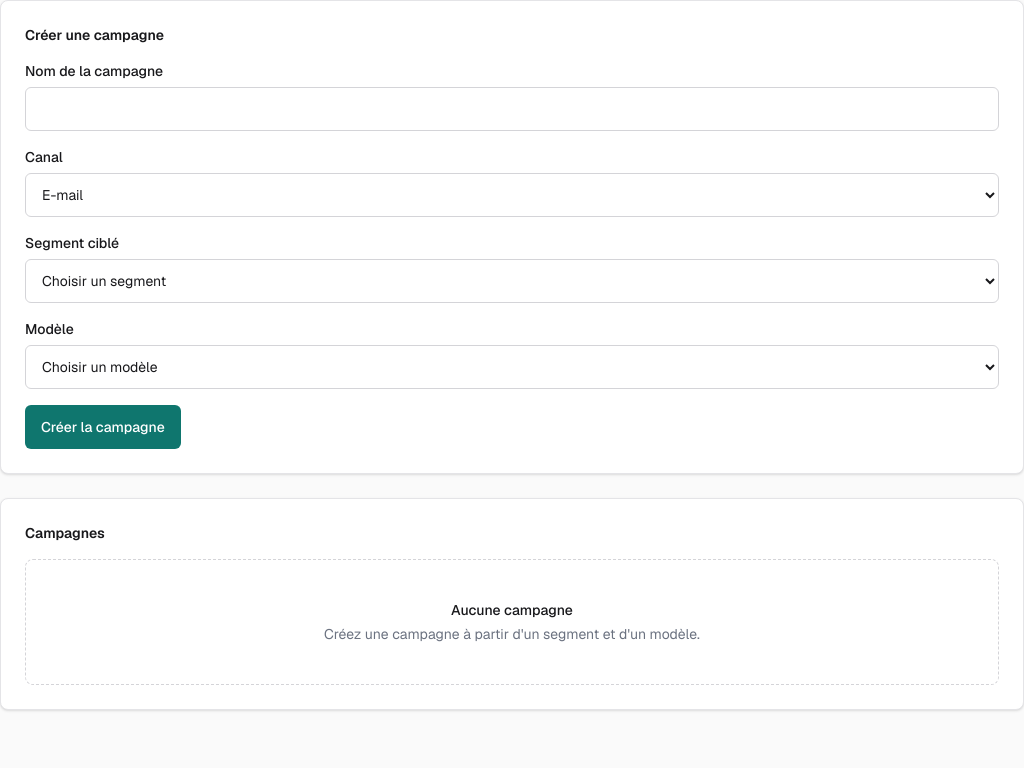
Test: CampaignsPage › cree une nouvelle campagne
Expected: the text "Aucune campagne" is shown, [451, 600, 573, 620]
Type "Nouvelle" into the field labelled "Nom de la campagne" at (512, 109), box [25, 87, 999, 131]
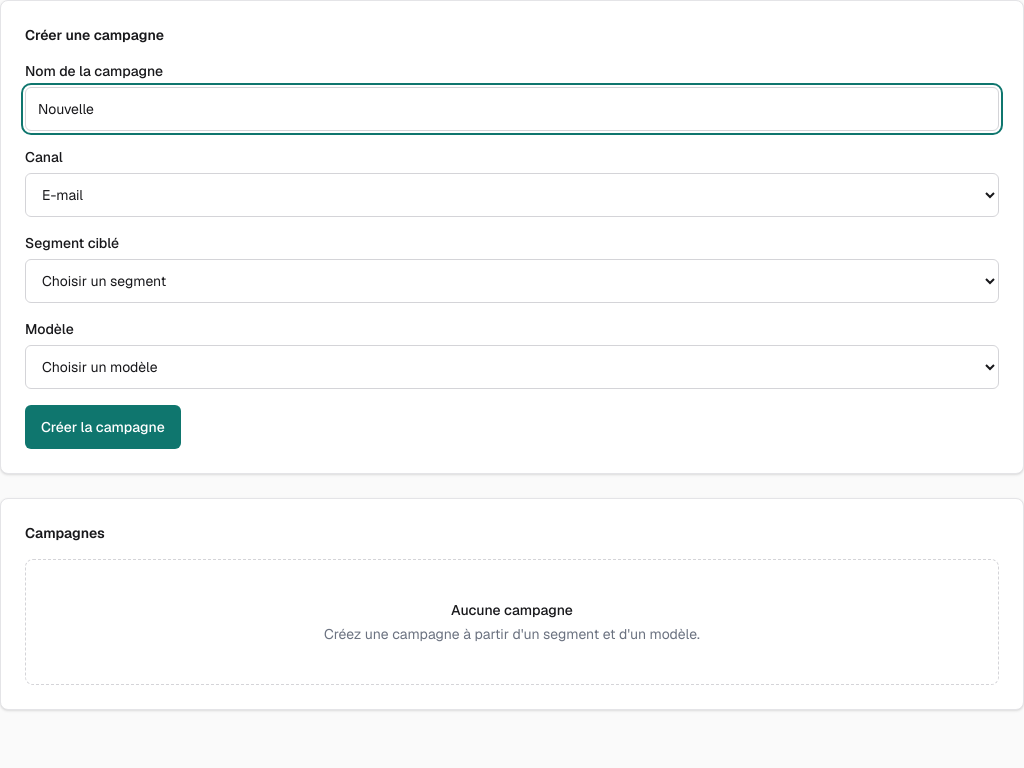
Select "Clients actifs" in the dropdown labelled "Segment ciblé" at (512, 281), box [25, 259, 999, 303]
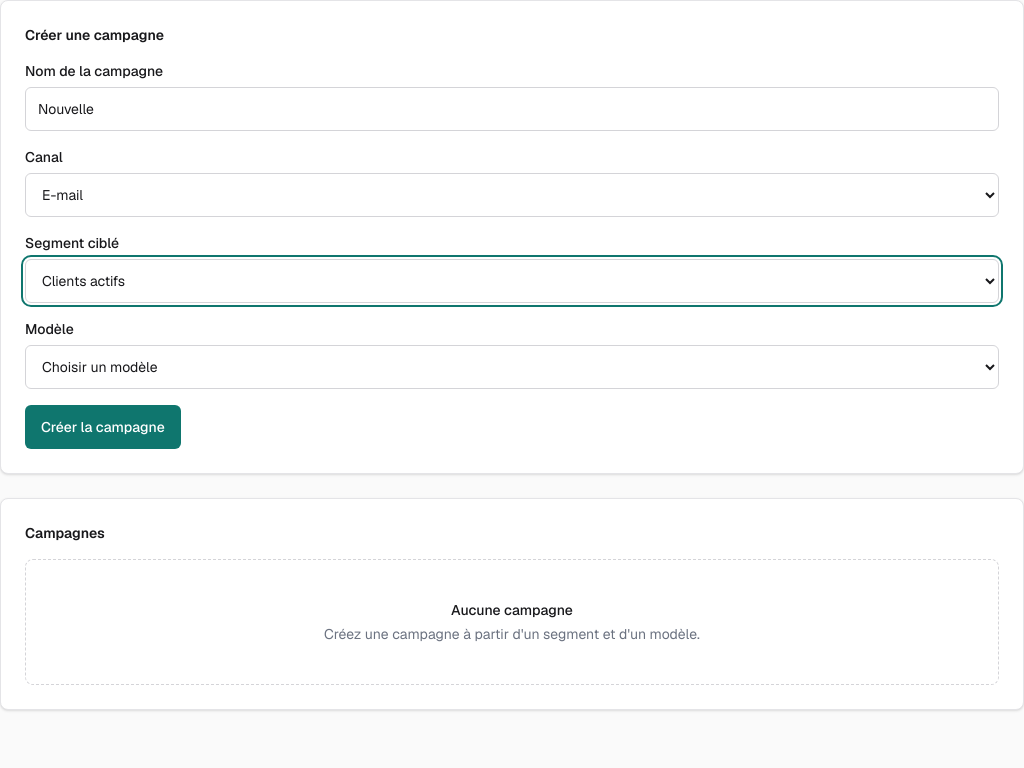
Select "Relance" in the dropdown labelled "Modèle" at (512, 367), box [25, 345, 999, 389]
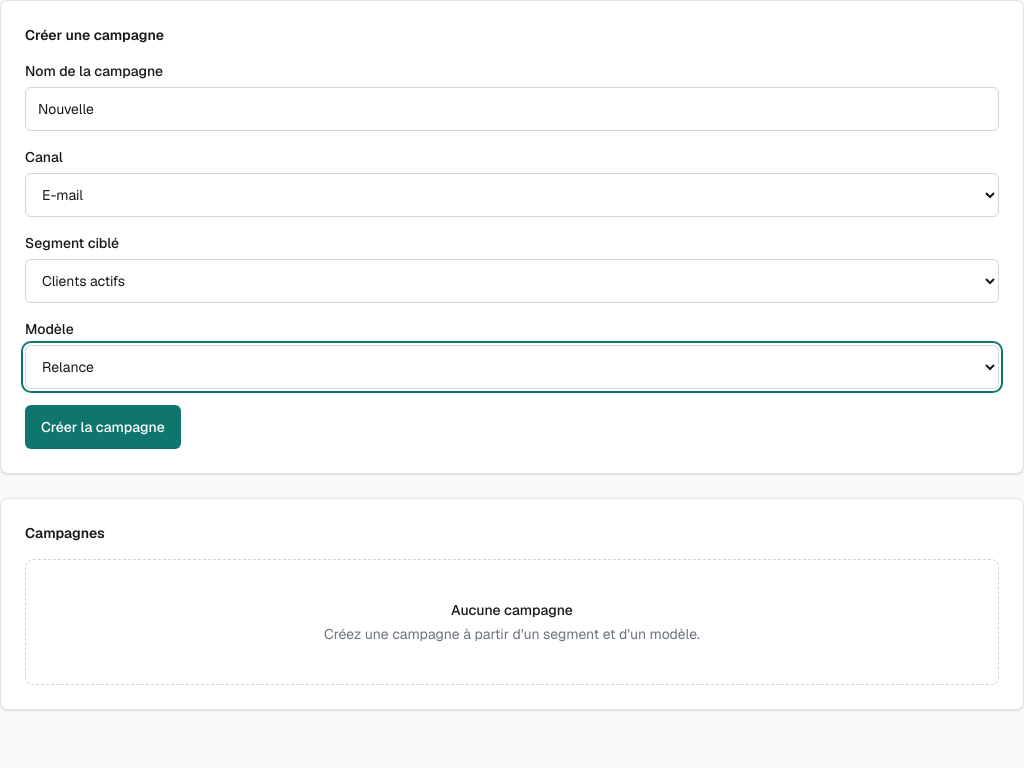
Click the button "Créer la campagne" at (103, 427), box [25, 405, 181, 449]
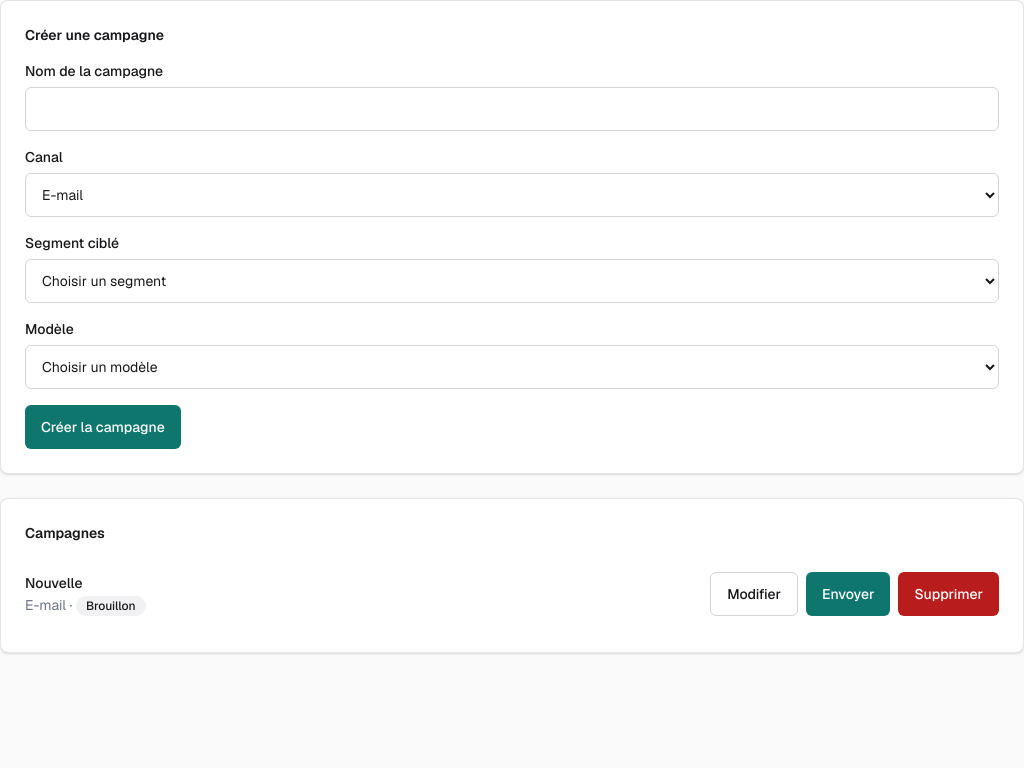
Expected: the link "Nouvelle" is shown, [25, 574, 82, 592]
